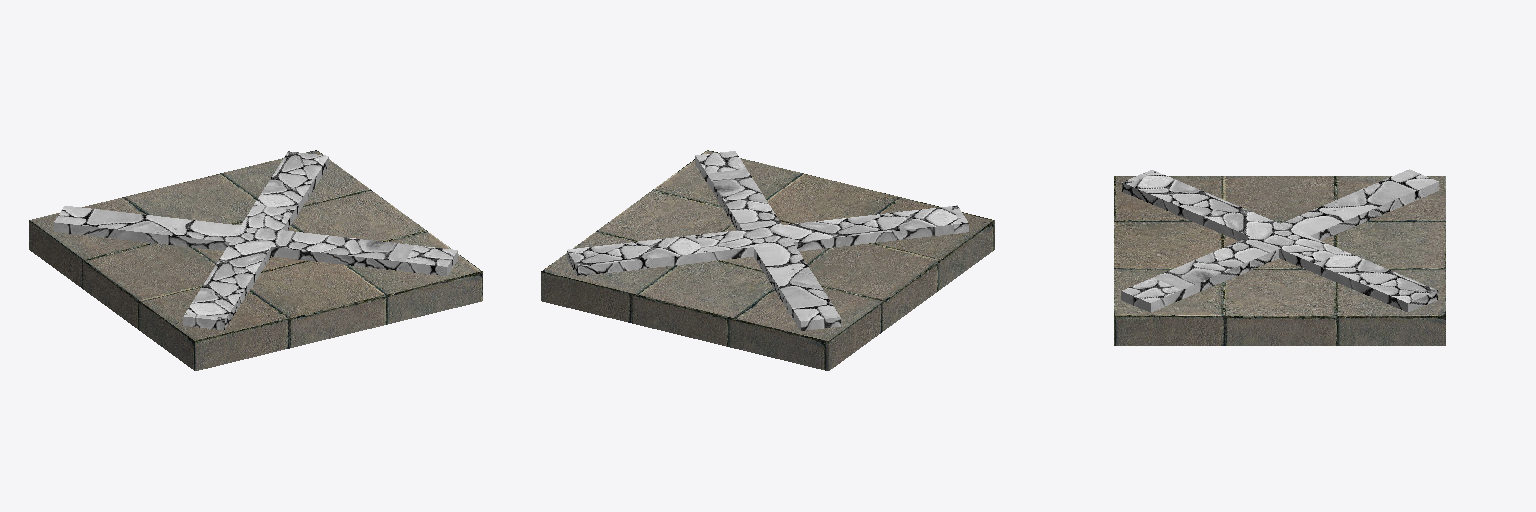
The picture shows the model from 3 angles: view 1: azimuth 30°, elevation 25°; view 2: azimuth 150°, elevation 25°; view 3: azimuth 270°, elevation 25°; orthographic projection.
Visible parts, largest first — view 1: Dark_tile_Cube.001, Cube_Cube.002; view 2: Dark_tile_Cube.001, Cube_Cube.002; view 3: Dark_tile_Cube.001, Cube_Cube.002.
Boxes of the visible parts, x1=… form: Dark_tile_Cube.001: x1=29, y1=150, x2=482, y2=370; Cube_Cube.002: x1=54, y1=151, x2=457, y2=329; Dark_tile_Cube.001: x1=541, y1=150, x2=994, y2=370; Cube_Cube.002: x1=567, y1=151, x2=968, y2=330; Dark_tile_Cube.001: x1=1114, y1=176, x2=1445, y2=345; Cube_Cube.002: x1=1121, y1=169, x2=1438, y2=312.
Bounding box in the file's own units: 2 × 0.263 × 2.
2 materials, 2 textured.